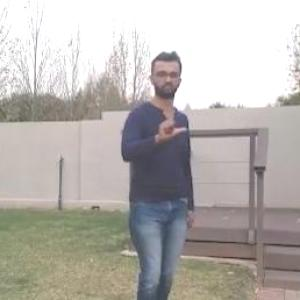land_hand: (154, 103, 189, 138)
